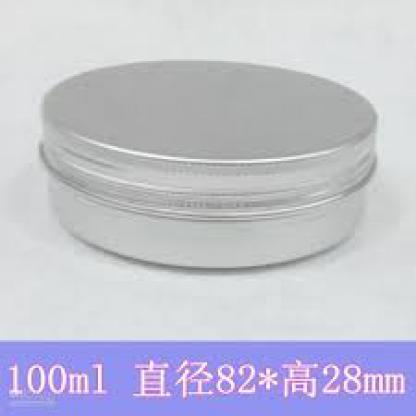Compsot: (37, 57, 375, 268)
